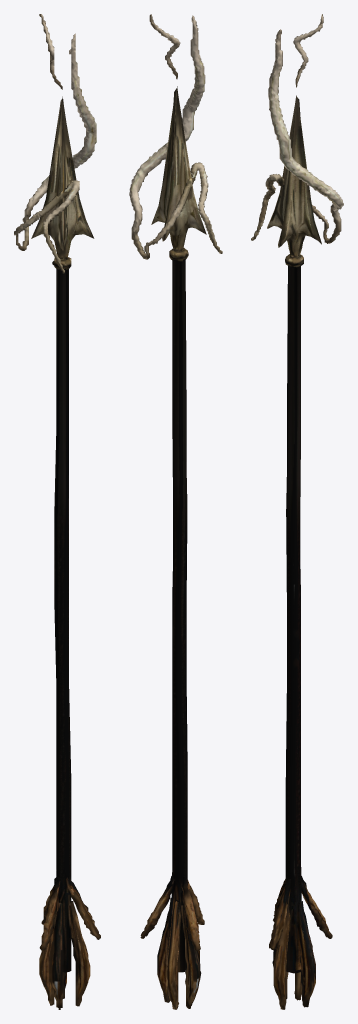
File: Lightning+arrow.fbx
3 renders of one model, left to right at view 1: azimuth 90°, elevation 25°; view 2: azimuth 150°, elevation 25°; view 3: azimuth 330°, elevation 25°, orthographic.
Parts seen in each view (by area): view 1: meshes[0]; view 2: meshes[0]; view 3: meshes[0].
Part boxes in pixels (box(x1,y1,x2,y2)): meshes[0]: box(14, 14, 100, 1009); meshes[0]: box(129, 14, 222, 1009); meshes[0]: box(251, 14, 343, 1009).
Size of the model in its own units: 0.0879 by 0.998 by 0.0801.
